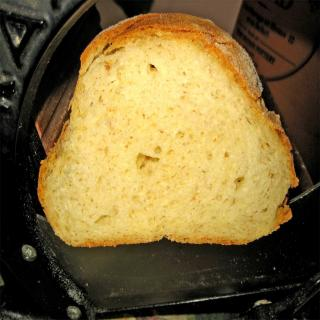Bread: (37, 12, 299, 244)
